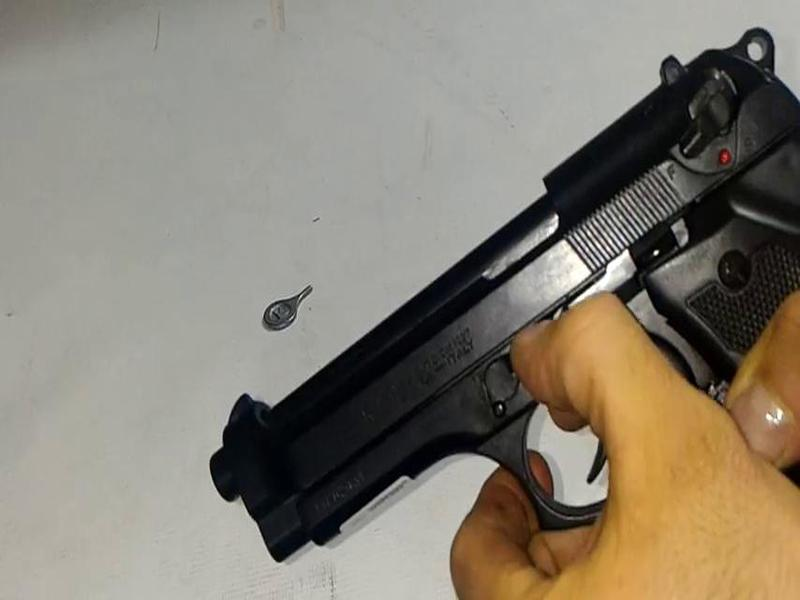Pistola: (201, 16, 800, 563)
